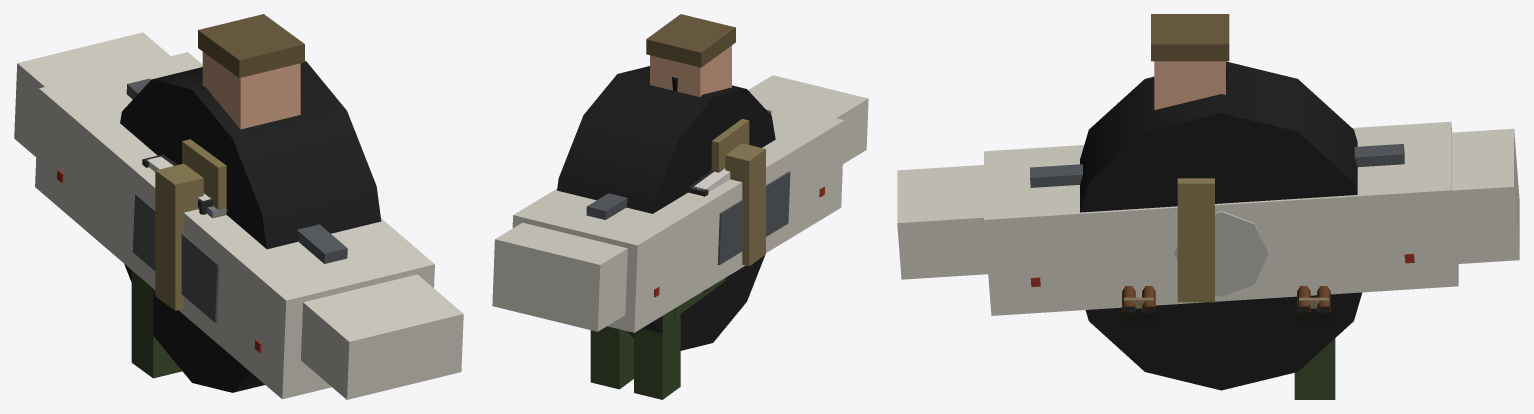
The model's file is items.glb.
3 renders of one model, left to right at view 1: azimuth 30°, elevation 25°; view 2: azimuth 150°, elevation 25°; view 3: azimuth 270°, elevation 25°, orthographic. The views are drawn at different scales.
Visible parts, largest first — view 1: up_pod, up_tyres, cg_patient; view 2: up_pod, up_tyres, cg_patient, cg_outboard; view 3: up_pod, up_tyres, cg_patient, cg_deer.
Boxes of the visible parts, x1=… form: up_pod: x1=14, y1=32, x2=463, y2=399; up_tyres: x1=120, y1=61, x2=381, y2=392; cg_patient: x1=131, y1=14, x2=304, y2=378; up_pod: x1=492, y1=75, x2=868, y2=332; up_tyres: x1=557, y1=66, x2=775, y2=350; cg_patient: x1=590, y1=14, x2=765, y2=399; cg_outboard: x1=689, y1=168, x2=730, y2=192; up_pod: x1=897, y1=121, x2=1519, y2=315; up_tyres: x1=1080, y1=61, x2=1362, y2=390; cg_patient: x1=1151, y1=14, x2=1335, y2=399; cg_deer: x1=1122, y1=286, x2=1330, y2=323.
Size of the model in its own units: 0.7425 by 1.24 by 1.99.
23 materials, 4 textured.
